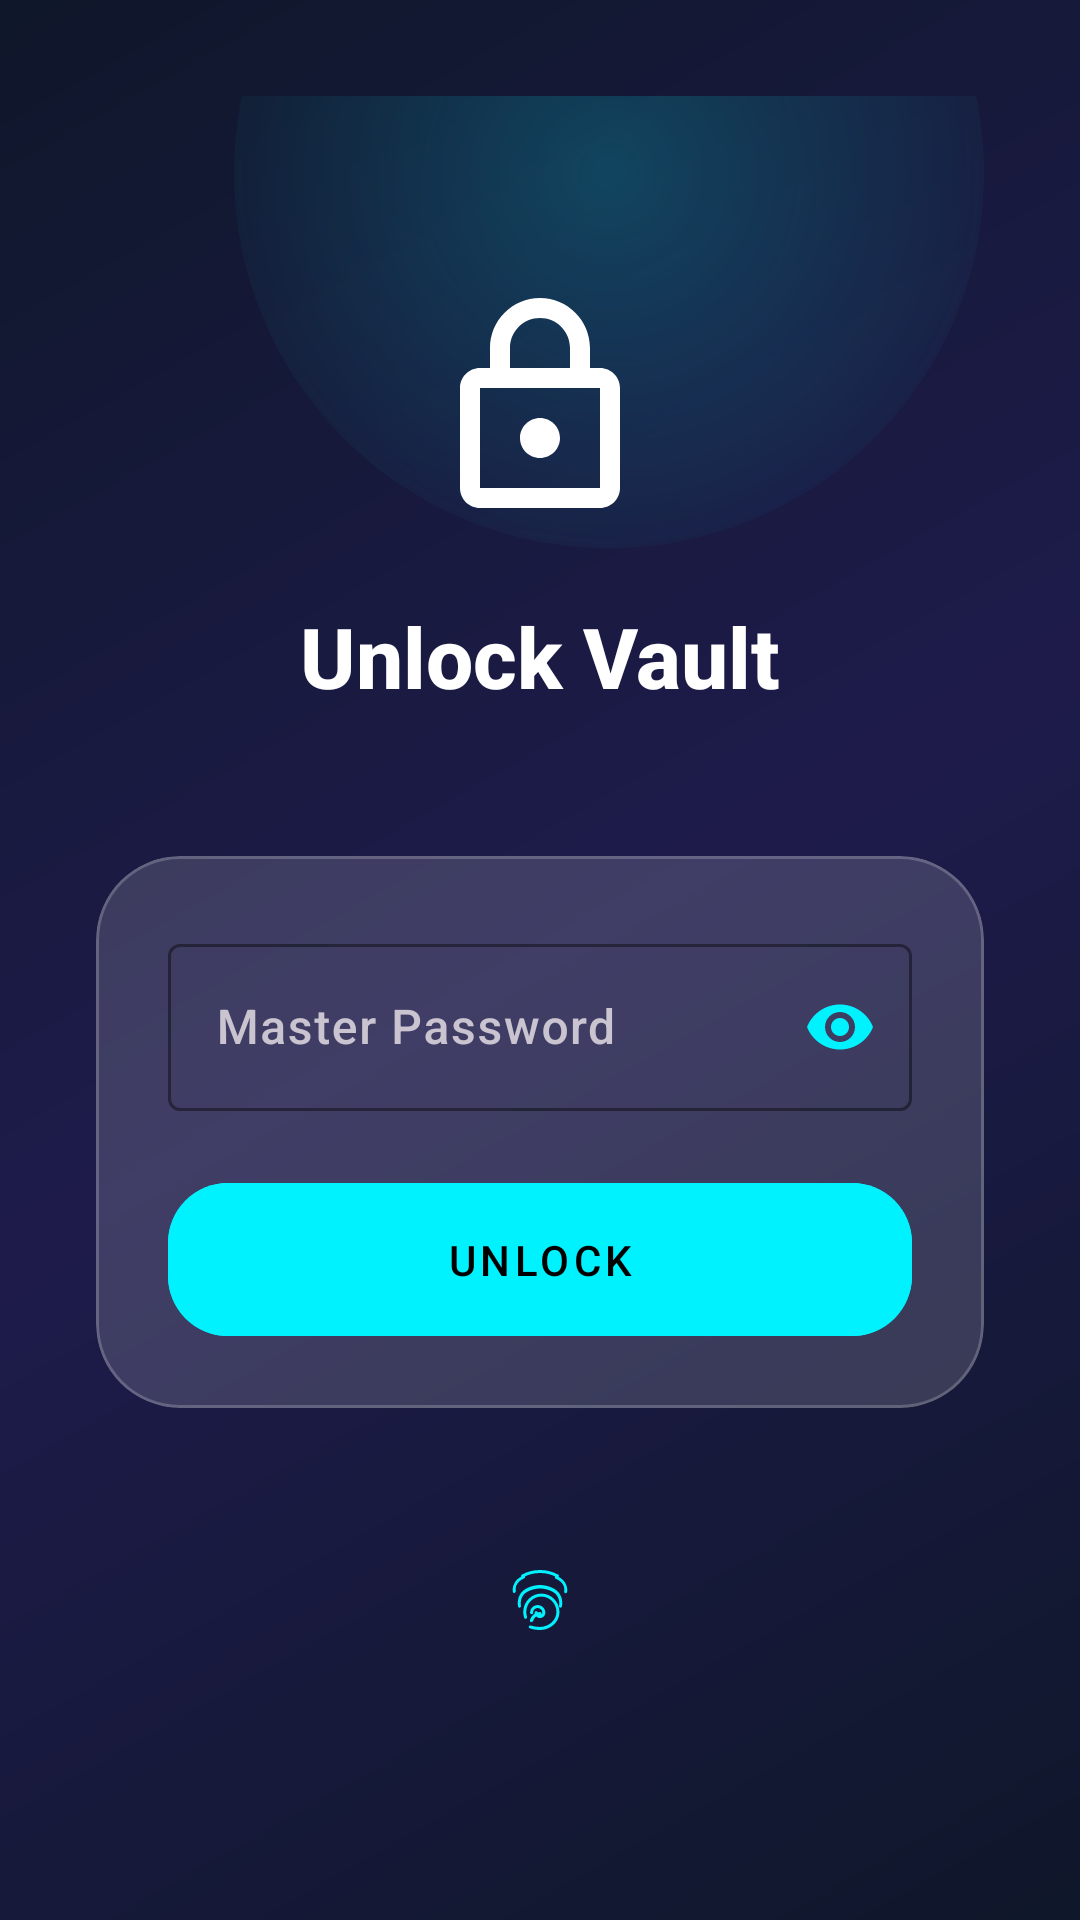

Screen size 1080*1920. Icon name, then its box in pixels as bbox(x1, y1, x2, y2):
fingerprint: bbox(512, 1570, 568, 1630)
